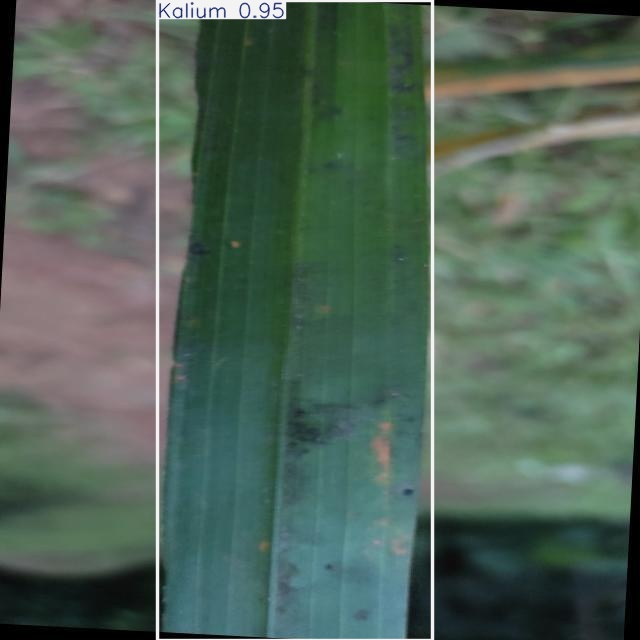Kalium: (157, 0, 432, 640)
